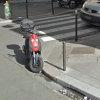Motorcycle: (19, 26, 56, 79)
